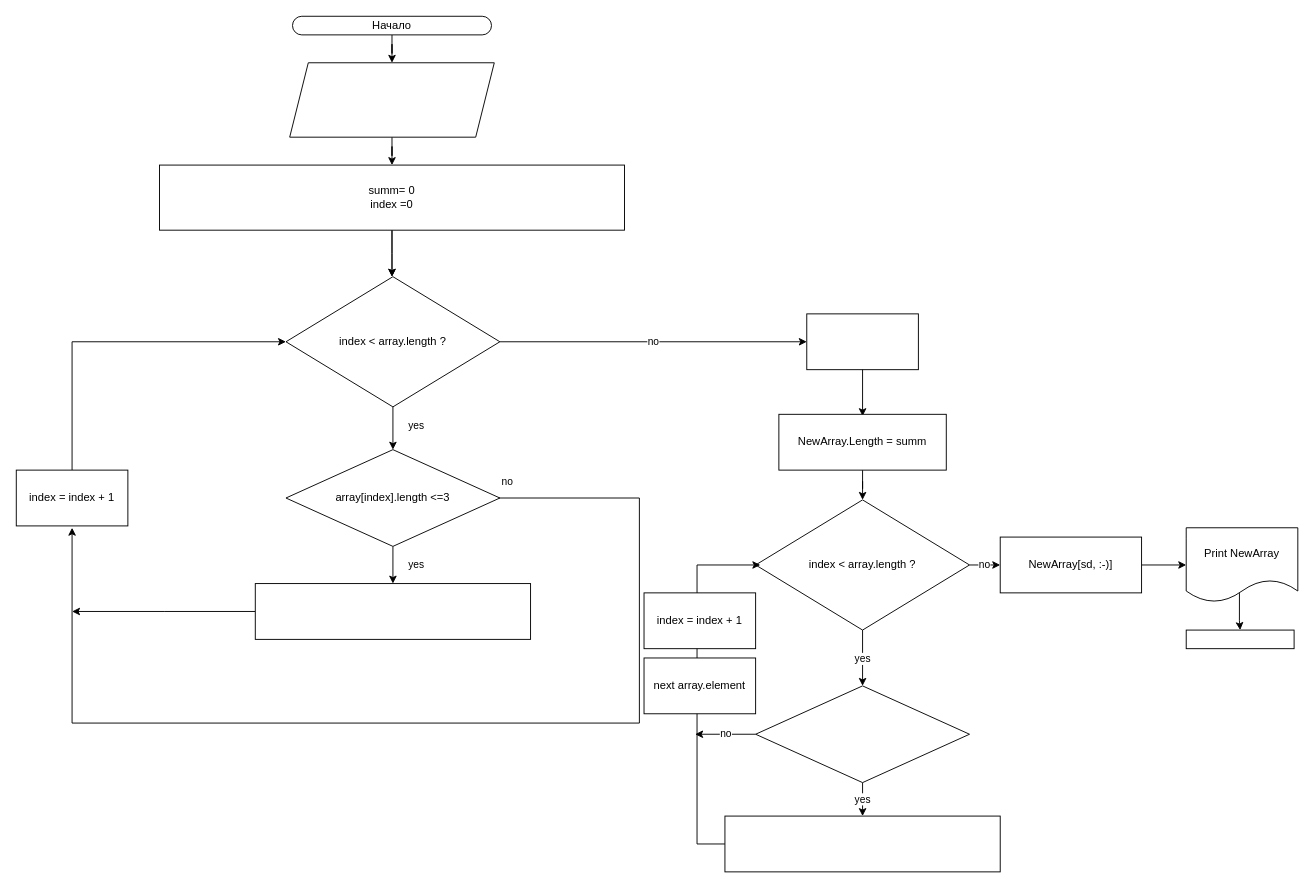
The diagram is 1314 pixels wide and 888 high, and some of its shapes have lost their labels. Each missing label, with the box of its shape:
array.element <=3: (755, 685, 970, 783)
array= [sd, dgdfgd, ujgfg3, :-)]: (289, 62, 494, 137)
NewArray[index] = array[index]: (724, 815, 1000, 872)
summ +=1: (254, 583, 531, 639)
summ = 2 index = 0: (806, 313, 918, 370)
Конец: (1185, 629, 1294, 649)
